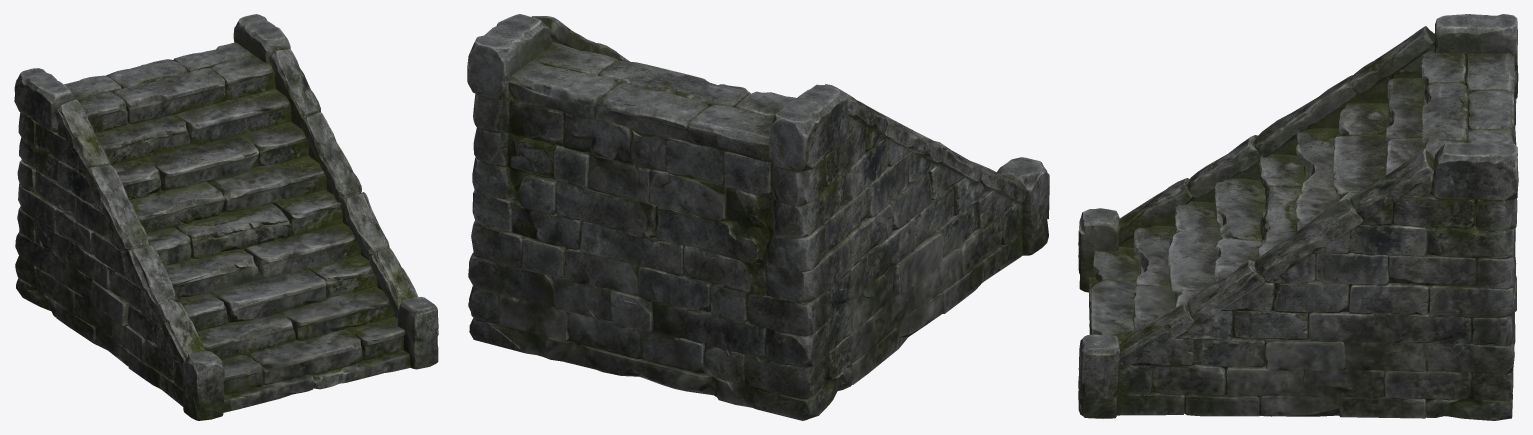
File: stairs.glb
3 renders of one model, left to right at view 1: azimuth 30°, elevation 25°; view 2: azimuth 150°, elevation 25°; view 3: azimuth 270°, elevation 25°, orthographic. The views are drawn at different scales.
Visible parts, largest first — view 1: Mesh_0; view 2: Mesh_0; view 3: Mesh_0.
Boxes of the visible parts, left/top/right/bottom form: Mesh_0: left=14, top=14, right=438, bottom=420; Mesh_0: left=467, top=14, right=1049, bottom=420; Mesh_0: left=1078, top=14, right=1518, bottom=420.
Bounding box in the file's own units: 1.49 × 1.25 × 1.89.
Materials: 1 (1 with a texture image).
